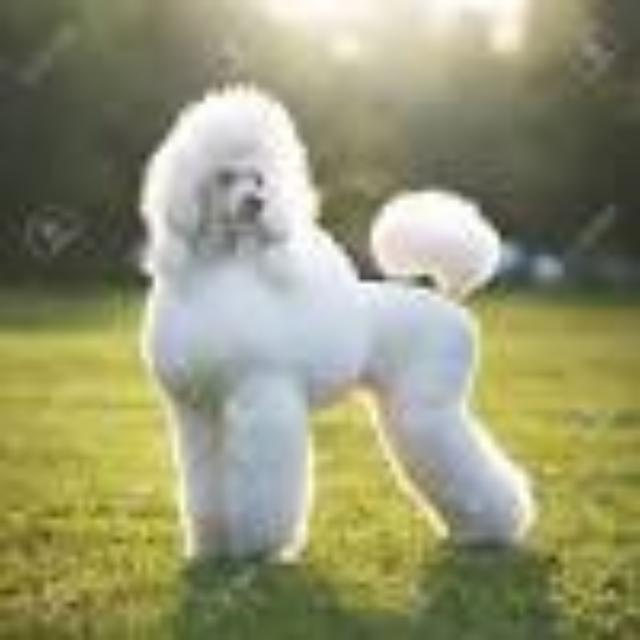dog: (97, 66, 565, 570)
